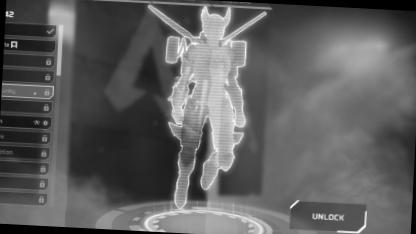Target: (137, 4, 261, 187)
